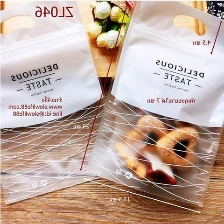snack: (80, 0, 224, 214), (0, 0, 118, 208)
